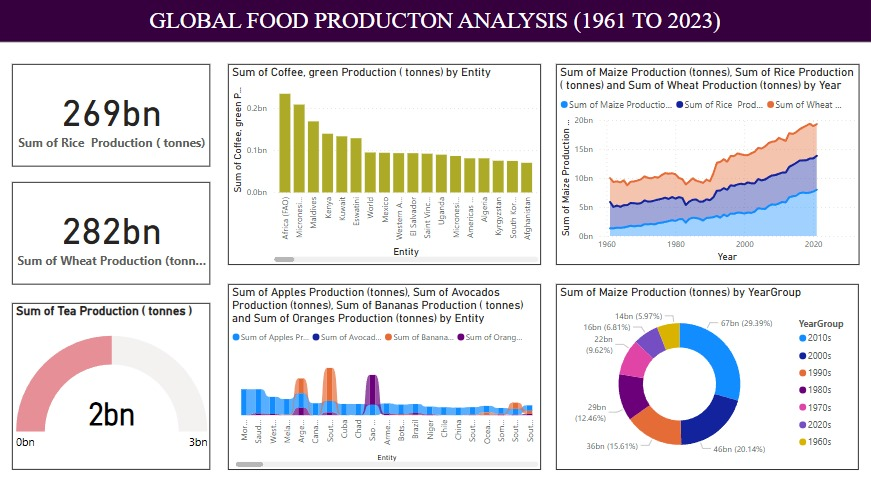

The page's visual inventory and layout, read from the dashboard file:
{"tool":"powerbi","page":{"name":"Page 1","canvas":[1280,720],"ordinal":0},"visuals":[{"type":"shape","box":[0,0,1280,66],"z":0},{"type":"card","fields":{"Values":["Sum(world food production.Rice  Production ( tonnes))"]},"box":[22,98,290,150],"z":1000},{"type":"card","fields":{"Values":["Sum(world food production.Wheat Production (tonnes))"]},"box":[22,270,290,150],"z":2000},{"type":"gauge","fields":{"Y":["Sum(world food production.Tea  Production ( tonnes ))"]},"box":[22,448,290,244],"z":3000},{"type":"clusteredColumnChart","fields":{"Y":["Sum(world food production.Coffee, green Production ( tonnes))"],"Category":["world food production.Entity"]},"box":[338,98,458,294],"z":4000},{"type":"stackedAreaChart","fields":{"Category":["world food production.Year"],"Y":["Sum(world food production.Maize Production (tonnes))","Sum(world food production.Rice  Production ( tonnes))","Sum(world food production.Wheat Production (tonnes))"]},"box":[818,102.4,443.4,292.7],"z":5000},{"type":"ribbonChart","fields":{"Category":["world food production.Entity"],"Y":["Sum(world food production.Apples Production (tonnes))","Sum(world food production.Avocados Production (tonnes))","Sum(world food production.Bananas  Production ( tonnes))","Sum(world food production.Oranges  Production (tonnes))"]},"box":[338,420,458,272],"z":6000},{"type":"donutChart","fields":{"Category":["world food production.YearGroup"],"Y":["Sum(world food production.Maize Production (tonnes))"]},"box":[818.3,420,443.3,271.7],"z":7000}]}

Visuals, with their boxes in screenshot pixels (x1, y1, x2, y2), scaled from the page's 1280x720 canvas onto the 871x477 screenshot:
shape: [0,0,870,44]
card - Sum(world food production.Rice  Production ( tonnes)): [15,65,212,164]
card - Sum(world food production.Wheat Production (tonnes)): [15,179,212,278]
gauge - Sum(world food production.Tea  Production ( tonnes )): [15,297,212,458]
clusteredColumnChart - Sum(world food production.Coffee, green Production ( tonnes)) x world food production.Entity: [230,65,542,260]
stackedAreaChart - world food production.Year x Sum(world food production.Maize Production (tonnes)): [557,68,858,262]
ribbonChart - world food production.Entity x Sum(world food production.Apples Production (tonnes)): [230,278,542,458]
donutChart - world food production.YearGroup x Sum(world food production.Maize Production (tonnes)): [557,278,858,458]
